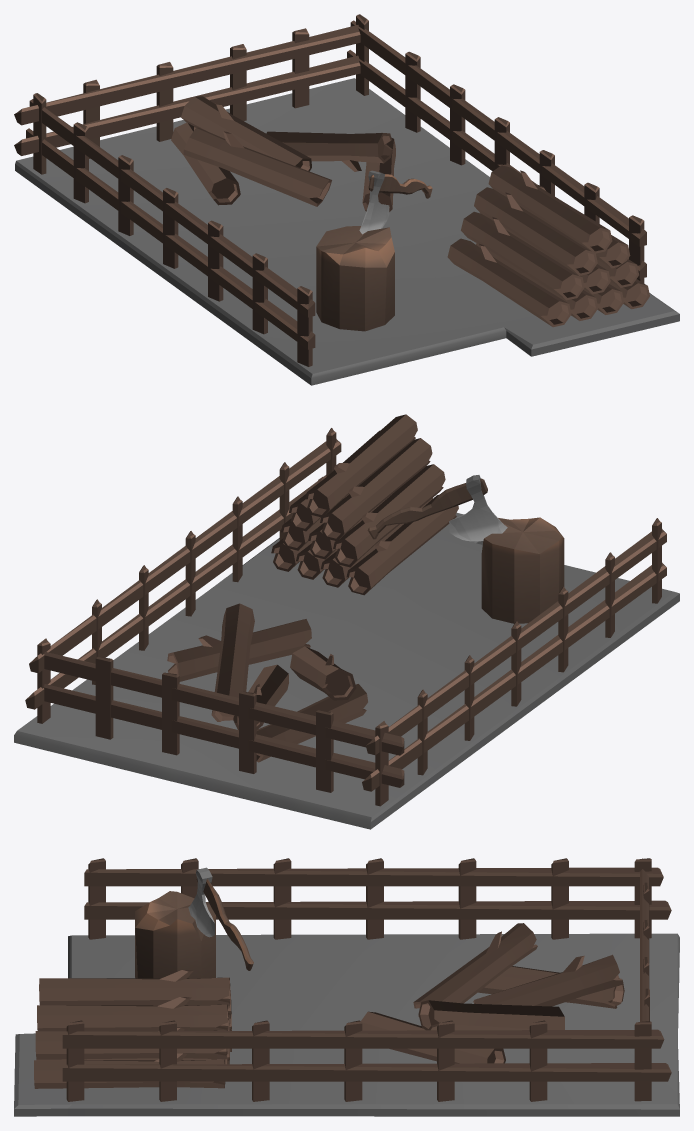
The model's file is sawmill_0lvl.fbx.
3 views of the same model, one above another, from view 1: azimuth 30°, elevation 25°; view 2: azimuth 150°, elevation 25°; view 3: azimuth 270°, elevation 25° (orthographic). The views are drawn at different scales.
Visible parts, largest first — view 1: sawmill_0lvl; view 2: sawmill_0lvl; view 3: sawmill_0lvl.
Part boxes in pixels (box(x1,y1,x2,y2)): sawmill_0lvl: box(14, 14, 679, 385); sawmill_0lvl: box(14, 414, 679, 829); sawmill_0lvl: box(14, 858, 679, 1116).
Size of the model in its own units: 4.17 by 1.52 by 6.47.
